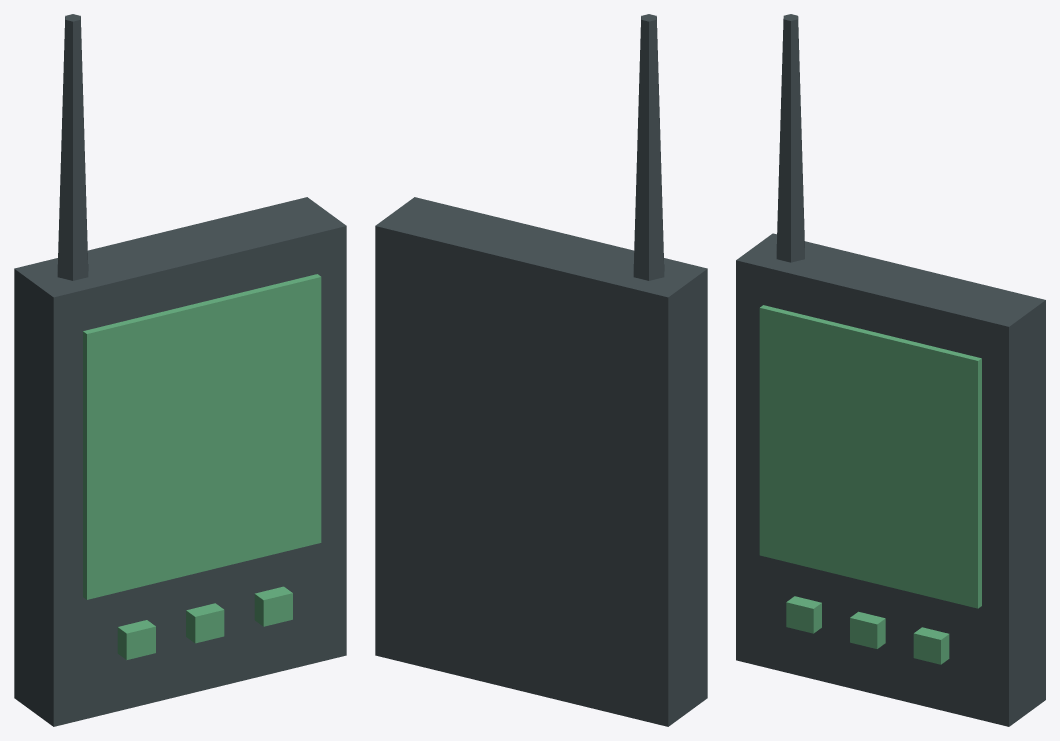
File: Radar.fbx
3 renders of one model, left to right at view 1: azimuth 30°, elevation 25°; view 2: azimuth 150°, elevation 25°; view 3: azimuth 330°, elevation 25°, orthographic. The views are drawn at different scales.
Parts seen in each view (by area): view 1: Case, Screen, Antenna, Button0, Button1, Button2; view 2: Case, Antenna; view 3: Case, Screen, Antenna, Button0, Button2, Button1.
Part boxes in pixels (left/top/right/bottom): Case: left=14, top=197, right=346, bottom=726; Screen: left=83, top=274, right=321, bottom=599; Antenna: left=57, top=14, right=88, bottom=280; Button0: left=254, top=586, right=292, bottom=626; Button1: left=186, top=603, right=224, bottom=643; Button2: left=117, top=620, right=155, bottom=659; Case: left=375, top=197, right=707, bottom=726; Antenna: left=633, top=14, right=664, bottom=280; Case: left=736, top=233, right=1045, bottom=726; Screen: left=759, top=305, right=981, bottom=608; Antenna: left=776, top=14, right=804, bottom=262; Button0: left=913, top=627, right=949, bottom=664; Button2: left=786, top=596, right=821, bottom=633; Button1: left=850, top=611, right=885, bottom=648.
Bounding box in the file's own units: 0.15 × 0.335 × 0.0435.
